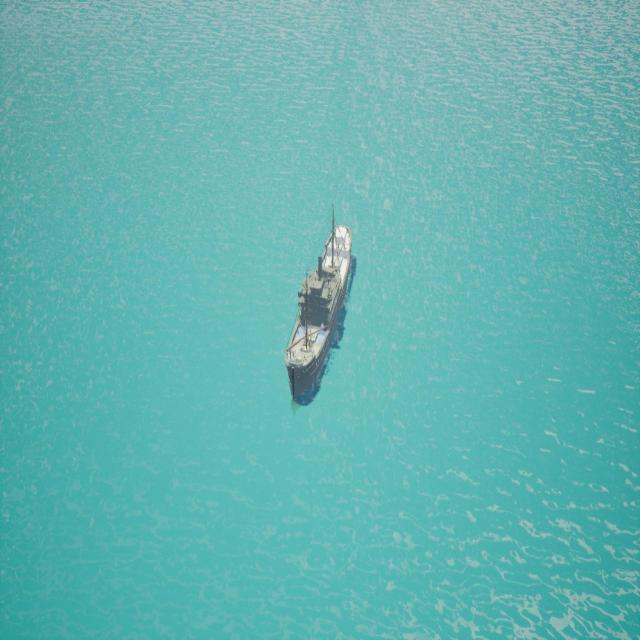fishing ship: (286, 227, 354, 407)
